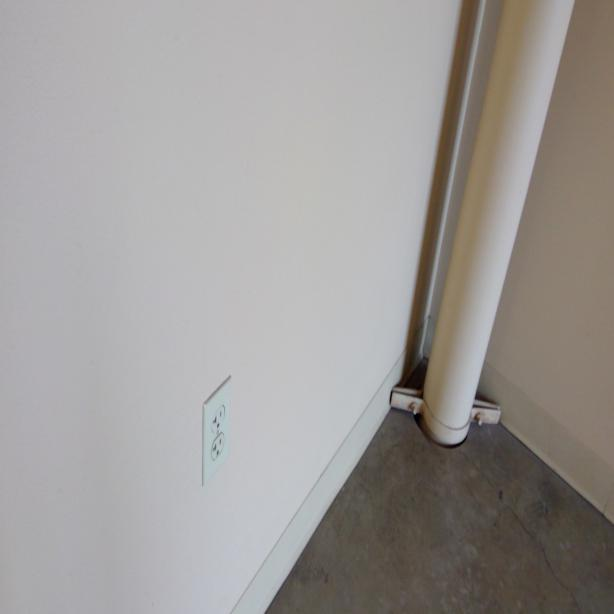typeb: (212, 437, 226, 462), (211, 406, 225, 430)
